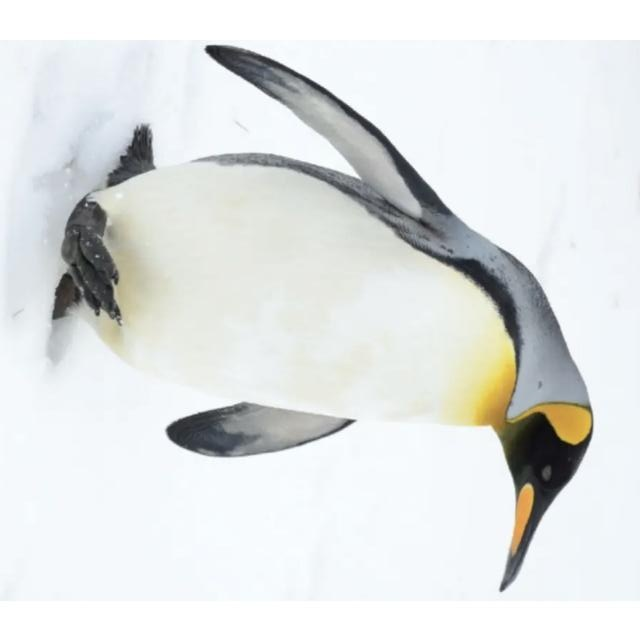penguin: (50, 45, 593, 593)
